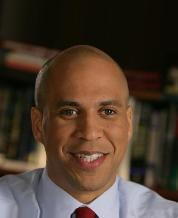face: (56, 100, 122, 172)
